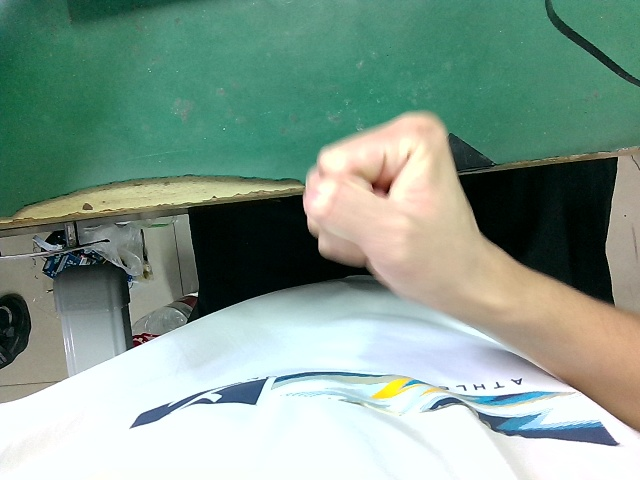stone: (282, 100, 507, 322)
